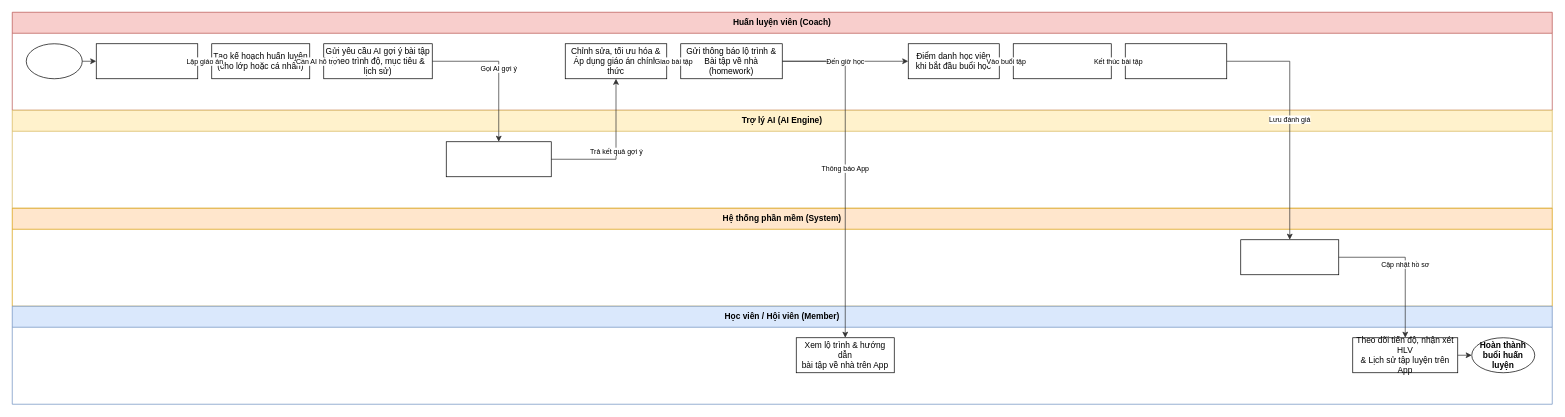
Some shapes in this 1565 by 417 pixel diagram are drawn without their labels. Here are the shapes that lost their labels. From the top down, the box of each, then its label:
(26, 43, 82, 79): Bắt đầu
(96, 43, 198, 79): Xem danh sách lớp, thông tin & mục tiêu tập của học viên
(1013, 43, 1111, 79): Tiến hành buổi tập & Giám sát kỹ thuật động tác
(1125, 43, 1227, 79): Ghi nhận kết quả tập & Đánh giá tiến độ từng HV
(446, 141, 551, 177): Phân tích dữ liệu thể lực & Trả về gợi ý bài tập/giáo án
(1240, 239, 1339, 275): Lưu kết quả & Đồng bộ vào hồ sơ sức khỏe HV
